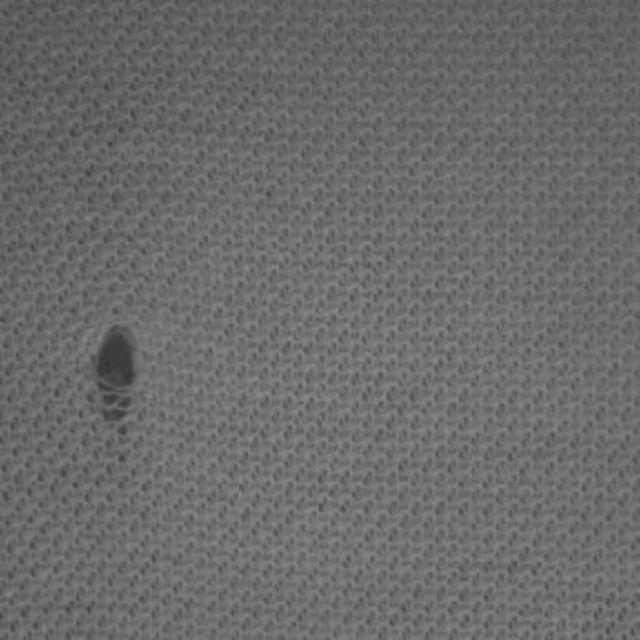Hole: (95, 326, 134, 421)
